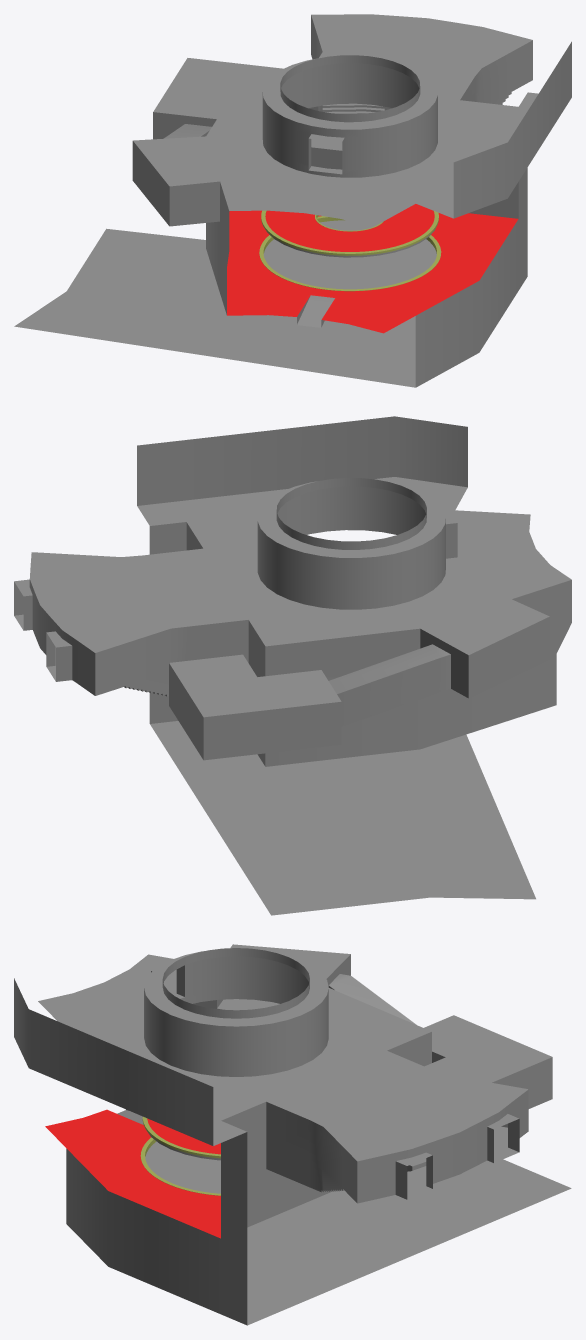
Rendered from Level_00_B.fbx.
3 renders of one model, top to bottom at view 1: azimuth 30°, elevation 25°; view 2: azimuth 150°, elevation 25°; view 3: azimuth 270°, elevation 25°, orthographic. The views are drawn at different scales.
Parts seen in each view (by area): view 1: Geom_Level_00_B_LOD00, Geom_Level_00_B_Trims_LOD00; view 2: Geom_Level_00_B_LOD00; view 3: Geom_Level_00_B_LOD00, Geom_Level_00_B_Trims_LOD00.
Boxes of the visible parts, <box> form: Geom_Level_00_B_LOD00: <box>14,14,571,387</box>; Geom_Level_00_B_Trims_LOD00: <box>259,210,441,291</box>; Geom_Level_00_B_LOD00: <box>14,416,571,915</box>; Geom_Level_00_B_LOD00: <box>14,944,571,1325</box>; Geom_Level_00_B_Trims_LOD00: <box>140,1116,220,1195</box>.
Size of what is drawn, in the model's own units: 6463 by 6005 by 3003.
